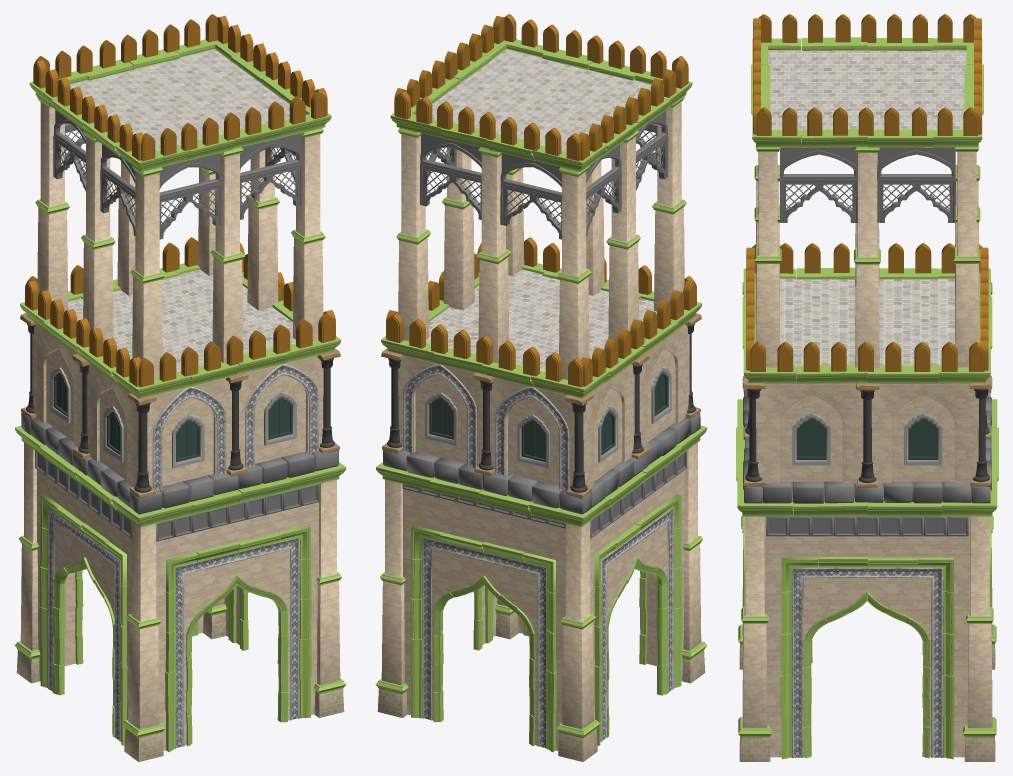
File: SM_temple_02.fbx
3 renders of one model, left to right at view 1: azimuth 30°, elevation 25°; view 2: azimuth 150°, elevation 25°; view 3: azimuth 270°, elevation 25°, orthographic. The views are drawn at different scales.
Visible parts, largest first — view 1: Object33195; view 2: Object33195; view 3: Object33195.
Part boxes in pixels (x1,y1,x2,y2): Object33195: [14, 14, 346, 761]; Object33195: [375, 14, 707, 761]; Object33195: [736, 14, 998, 761].
Bounding box in the file's own units: 372 × 1041 × 383.
